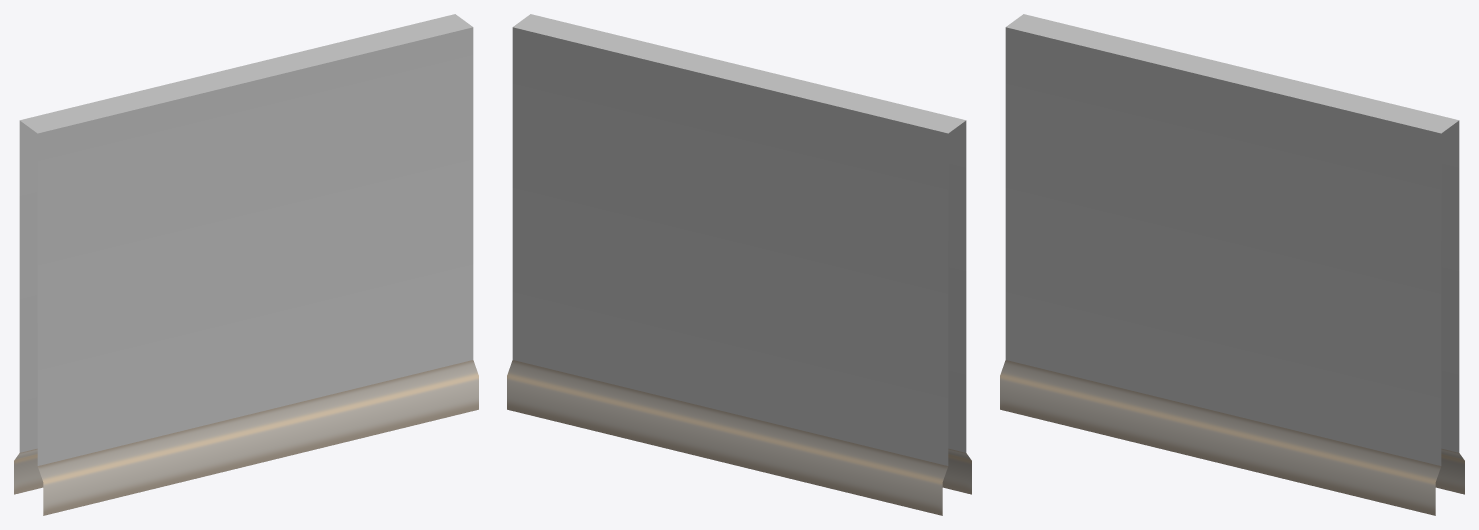
File: wall-basic-plus-tex.fbx
3 renders of one model, left to right at view 1: azimuth 30°, elevation 25°; view 2: azimuth 150°, elevation 25°; view 3: azimuth 330°, elevation 25°, orthographic.
Parts seen in each view (by area): view 1: pCube7; view 2: pCube7; view 3: pCube7.
Boxes of the visible parts, x1,y1,x2,y2 form: pCube7: (14,14,478,515); pCube7: (507,14,971,515); pCube7: (1000,14,1464,515).
Bounding box in the file's own units: 4 × 3.32 × 0.4632.
